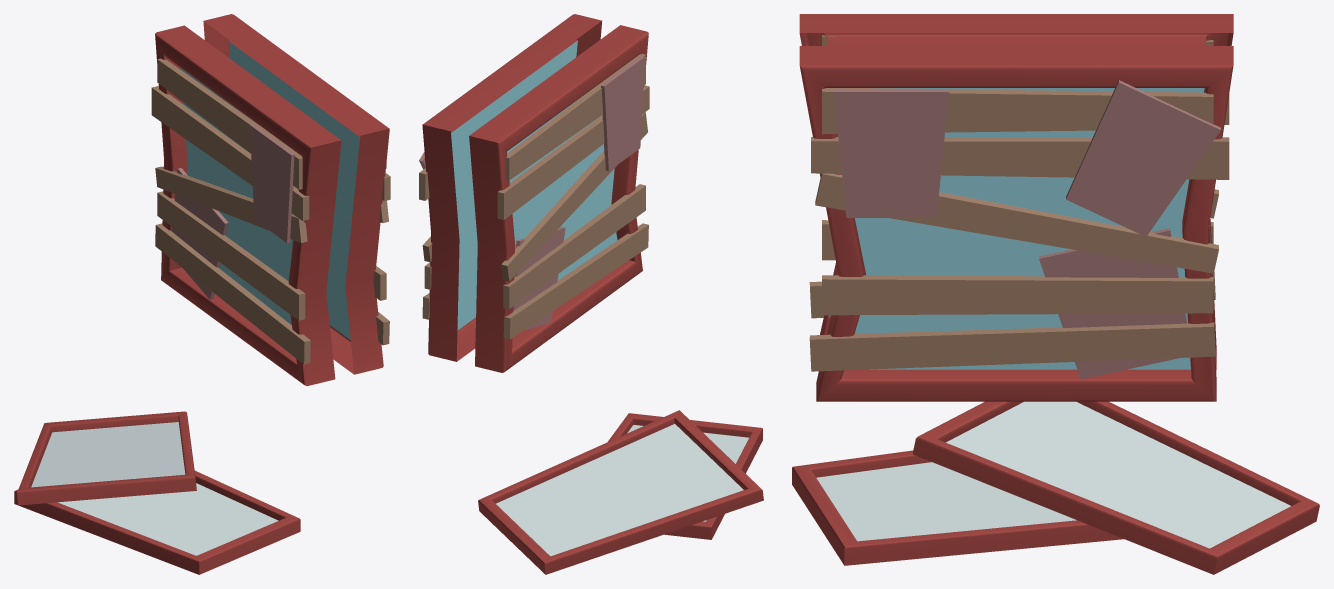
Rendered from Kut_Raam_Variatie_02.fbx.
3 renders of one model, left to right at view 1: azimuth 30°, elevation 25°; view 2: azimuth 150°, elevation 25°; view 3: azimuth 270°, elevation 25°, orthographic. The views are drawn at different scales.
Visible parts, largest first — view 1: KUTRaam_Variatie_02; view 2: KUTRaam_Variatie_02; view 3: KUTRaam_Variatie_02.
Boxes of the visible parts, bbox=[...] form: KUTRaam_Variatie_02: bbox=[14, 14, 390, 574]; KUTRaam_Variatie_02: bbox=[419, 14, 763, 574]; KUTRaam_Variatie_02: bbox=[792, 14, 1319, 574].
Size of the model in its own units: 3.9 by 5.18 by 4.41.
